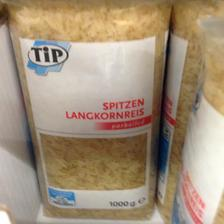Reis: (3, 0, 169, 219)
